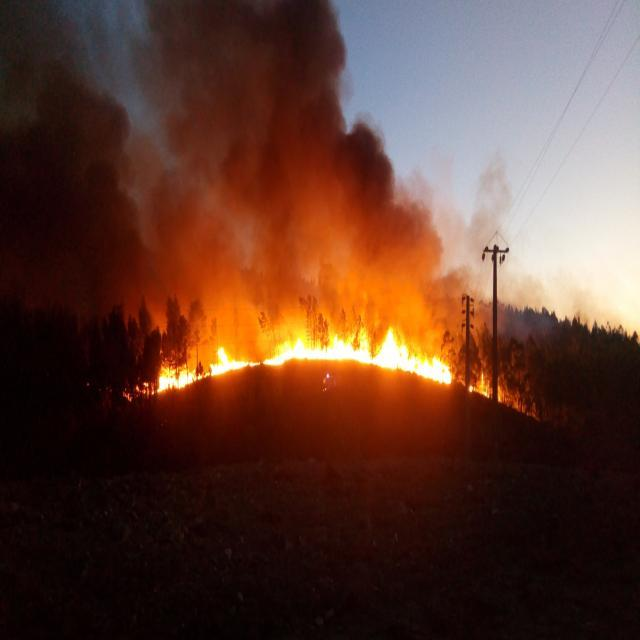Fire: (120, 324, 453, 406), (470, 370, 494, 403)
Smoke: (2, 0, 546, 373)
